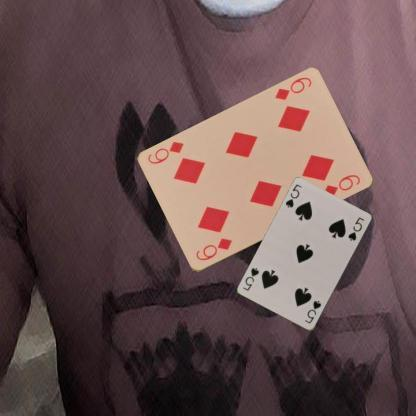5s: (302, 298, 323, 325), (283, 182, 303, 209)
6d: (272, 74, 313, 102), (193, 235, 233, 262)
